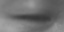LeftEyeFatigue: (2, 4, 64, 30)
